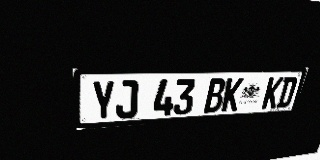3: (173, 79, 196, 115)
4: (153, 79, 176, 117)
B: (203, 78, 227, 113)
D: (275, 77, 298, 108)
J: (116, 80, 138, 119)
K: (221, 78, 244, 112), (261, 77, 284, 109)
Y: (91, 80, 115, 121)
